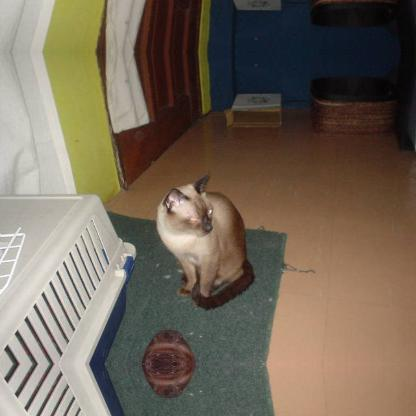Cat: (155, 173, 255, 306)
